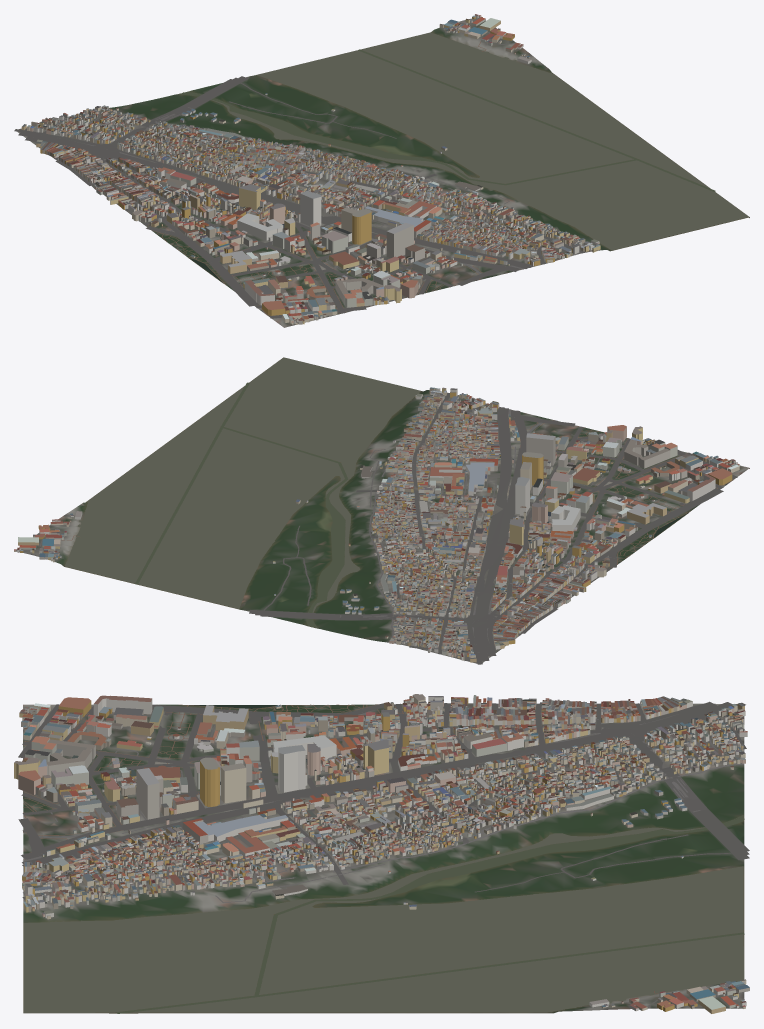
3 renders of one model, top to bottom at view 1: azimuth 30°, elevation 25°; view 2: azimuth 150°, elevation 25°; view 3: azimuth 270°, elevation 25°, orthographic. The views are drawn at different scales.
Parts seen in each view (by area): view 1: buildings, water, ground, roads; view 2: buildings, water, ground, roads; view 3: buildings, water, ground, roads.
Part boxes in pixels (x1,y1,x2,y2): buildings: (21,14,600,324); water: (178,32,748,282); ground: (17,17,749,327); roads: (14,20,584,318); buildings: (14,387,739,662); water: (64,357,686,628); ground: (16,358,749,663); roads: (16,393,737,664); buildings: (14,694,749,1013); water: (23,705,744,1013); ground: (23,703,744,1013); roads: (18,701,749,1008).
Bounding box in the file's own units: 1440 × 94.63 × 1431.
